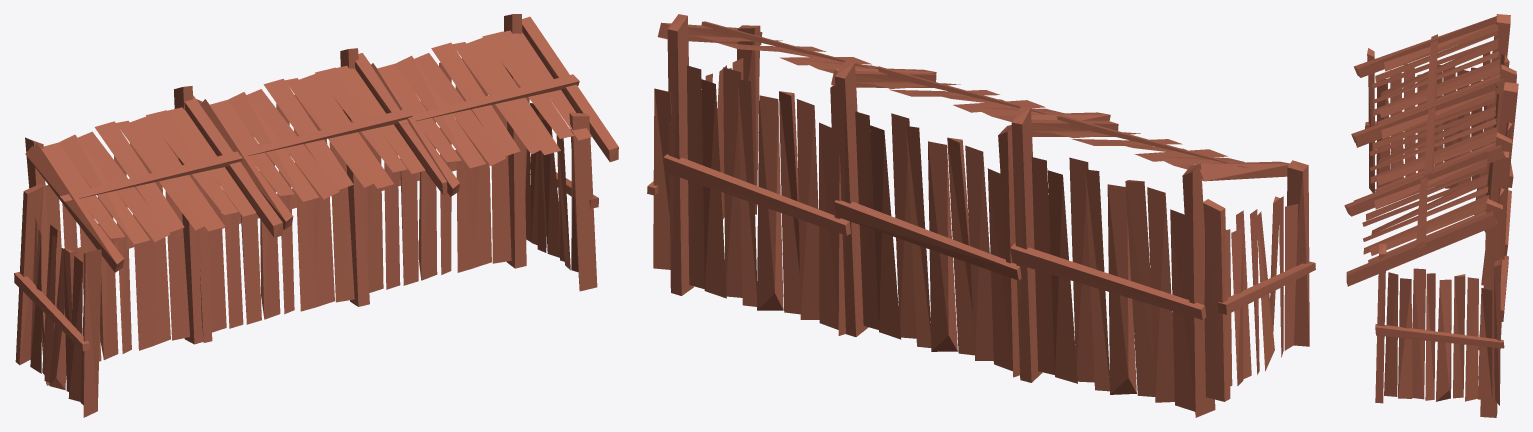
The model's file is prop_shed_02.fbx.
3 renders of one model, left to right at view 1: azimuth 30°, elevation 25°; view 2: azimuth 150°, elevation 25°; view 3: azimuth 270°, elevation 25°, orthographic. The views are drawn at different scales.
Parts seen in each view (by area): view 1: prop_shed_02; view 2: prop_shed_02; view 3: prop_shed_02.
Boxes of the visible parts, box(x1,y1,x2,y2) form: prop_shed_02: box(14, 14, 618, 417); prop_shed_02: box(647, 14, 1315, 417); prop_shed_02: box(1344, 14, 1518, 417).
Bounding box in the file's own units: 574 × 261 × 192.
